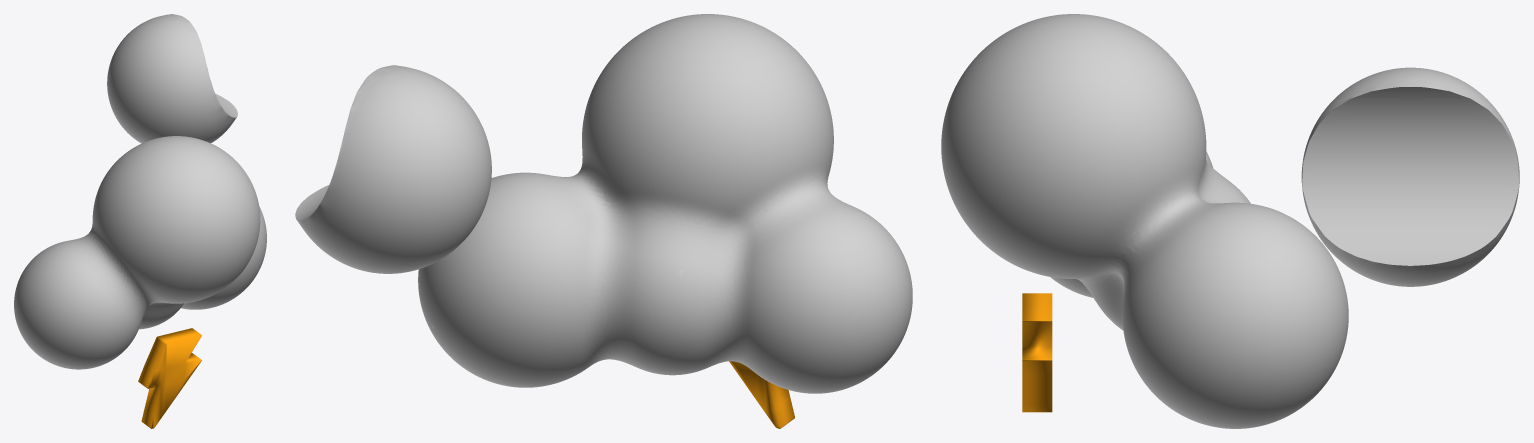
The model's file is night7.obj.
3 views of the same model, side by side, from view 1: azimuth 30°, elevation 25°; view 2: azimuth 150°, elevation 25°; view 3: azimuth 270°, elevation 25° (orthographic). The views are drawn at different scales.
Visible parts, largest first — view 1: Mball.024_Mesh.026, Sphere.117_Sphere.043, Plane.020_Plane.015; view 2: Mball.024_Mesh.026, Sphere.117_Sphere.043, Plane.020_Plane.015; view 3: Mball.024_Mesh.026, Sphere.117_Sphere.043, Plane.020_Plane.015.
Boxes of the visible parts, <box> form: Mball.024_Mesh.026: <box>14,136,266,369</box>; Sphere.117_Sphere.043: <box>107,14,237,143</box>; Plane.020_Plane.015: <box>138,328,201,428</box>; Mball.024_Mesh.026: <box>418,14,912,393</box>; Sphere.117_Sphere.043: <box>295,65,491,273</box>; Plane.020_Plane.015: <box>729,361,794,428</box>; Mball.024_Mesh.026: <box>941,14,1348,428</box>; Sphere.117_Sphere.043: <box>1301,67,1519,286</box>; Plane.020_Plane.015: <box>1022,293,1052,412</box>.
Size of the model in its own units: 4.95 by 4.46 by 5.24.
